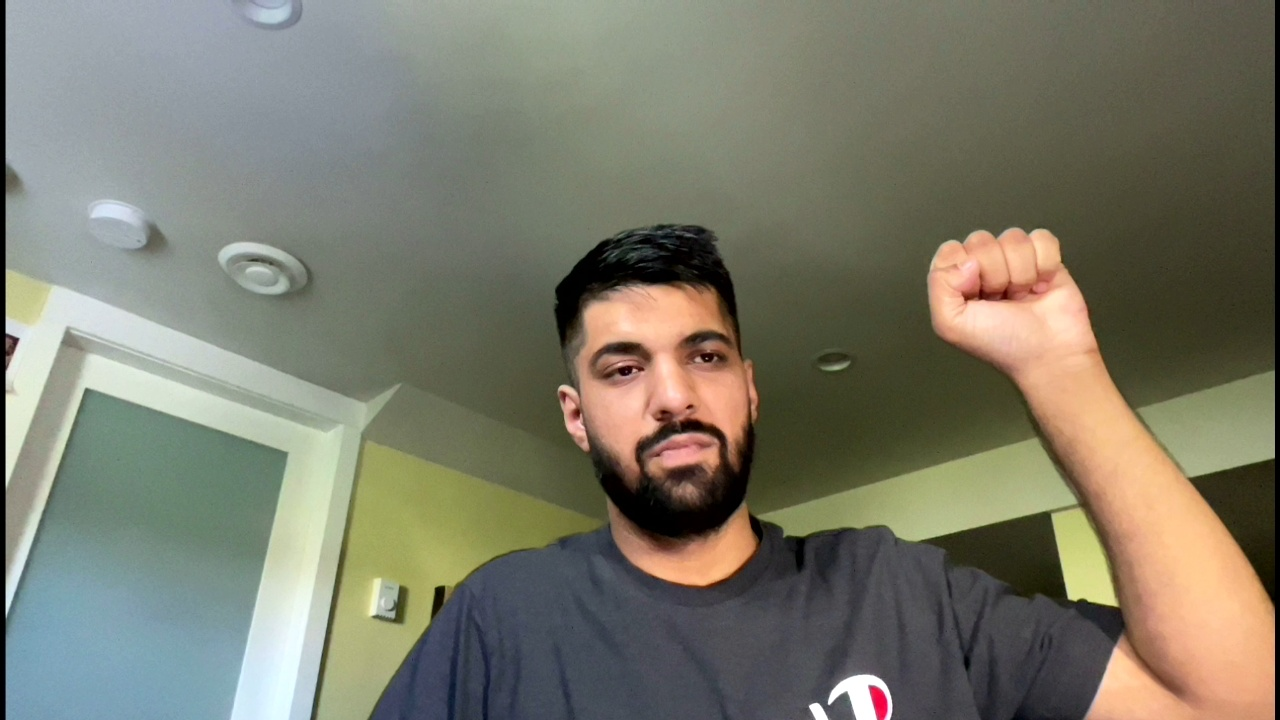No: (917, 218, 1122, 361)
